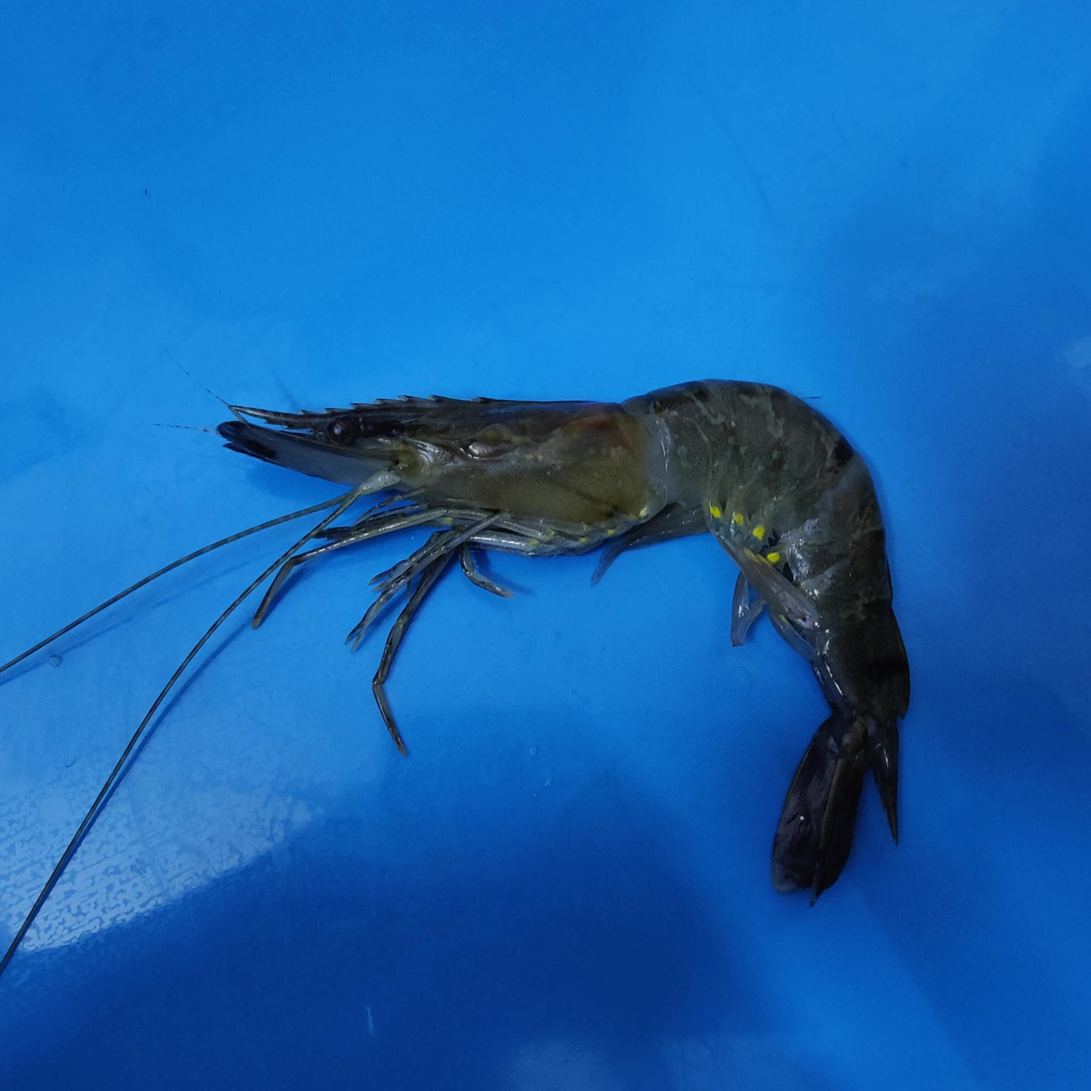whitespot: (355, 402, 644, 517)
